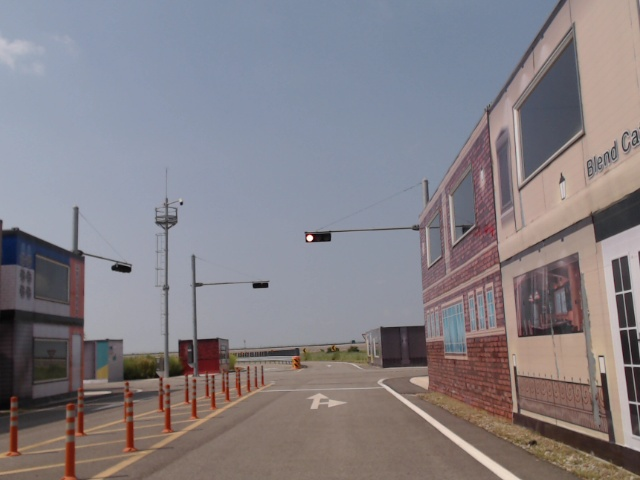red_3: (304, 232, 331, 243)
